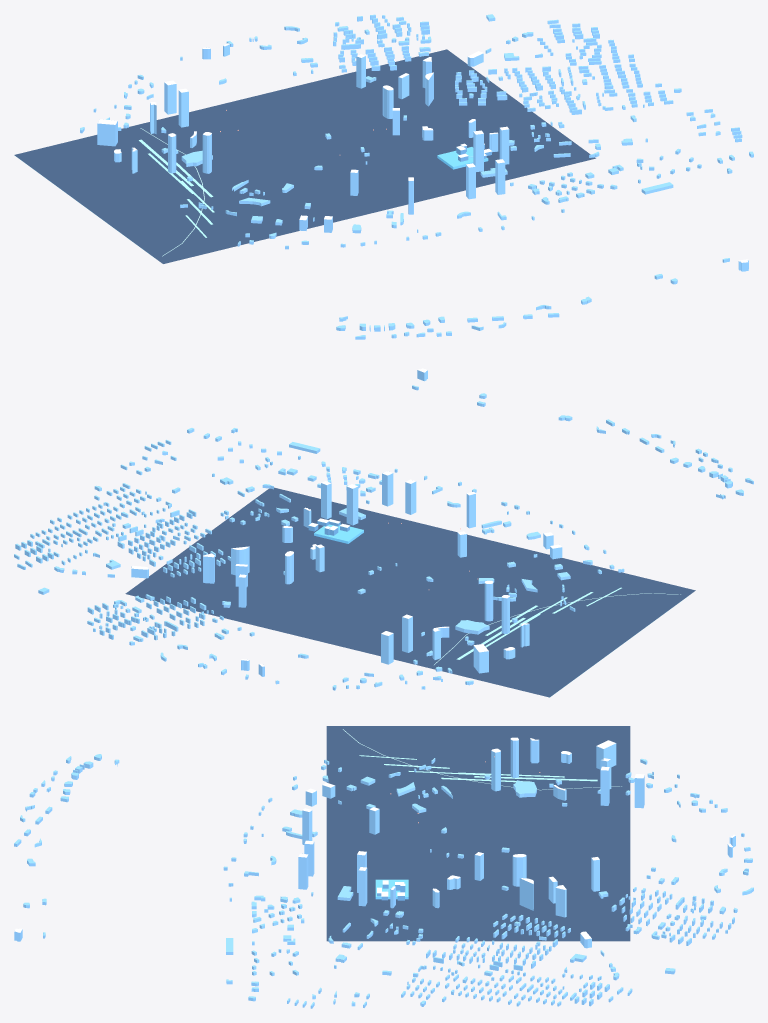
Rendered from lujiazui.glb.
3 renders of one model, top to bottom at view 1: azimuth 30°, elevation 25°; view 2: azimuth 150°, elevation 25°; view 3: azimuth 270°, elevation 25°, orthographic. The views are drawn at different scales.
Parts seen in each view (by area): view 1: lujiazui_osm; view 2: lujiazui_osm; view 3: lujiazui_osm.
Boxes of the visible parts, x1,y1,x2,y2 form: lujiazui_osm: (14,14,753,339); lujiazui_osm: (14,368,753,697); lujiazui_osm: (14,726,753,1008).
Bounding box in the file's own units: 163 × 10.95 × 180.
